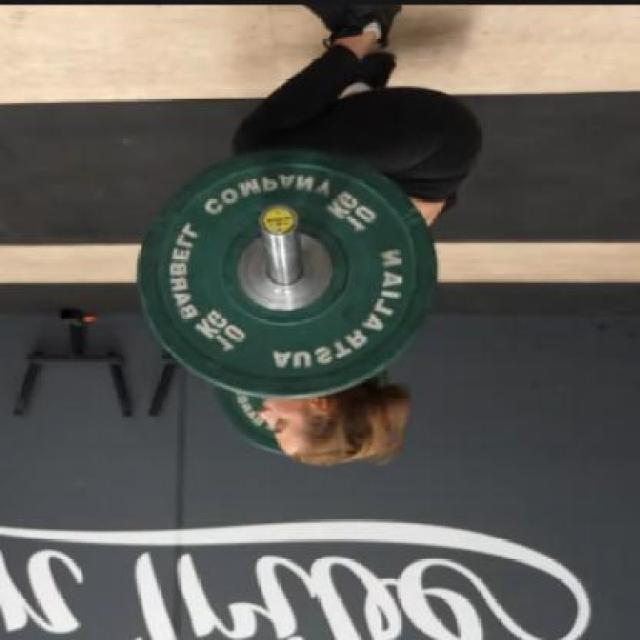Barbell: (258, 202, 300, 242)
